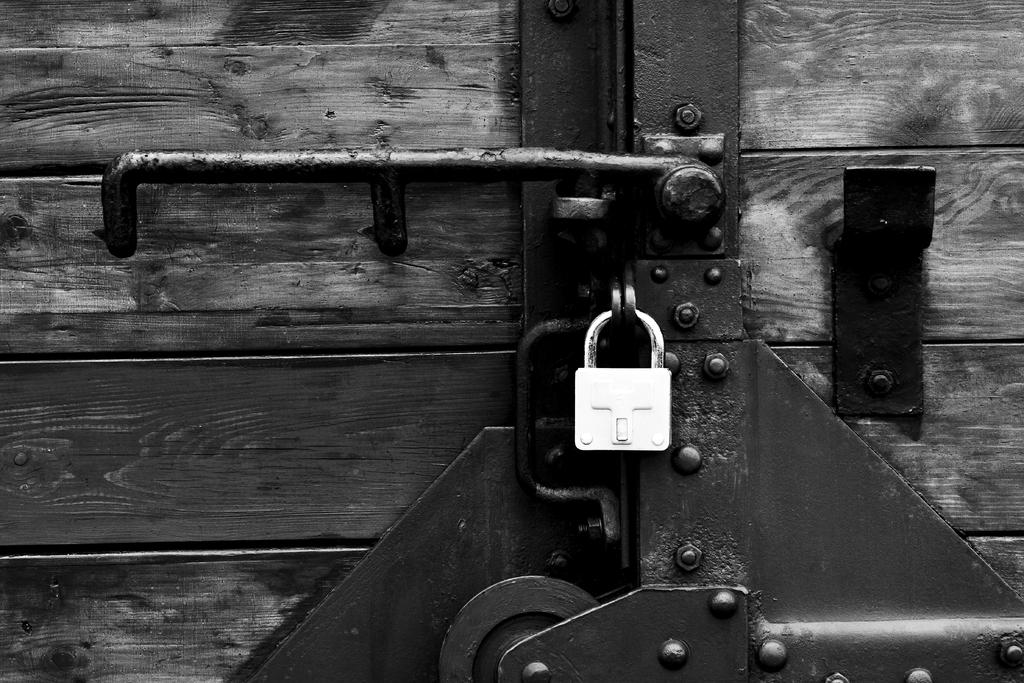handle: (98, 138, 700, 236)
